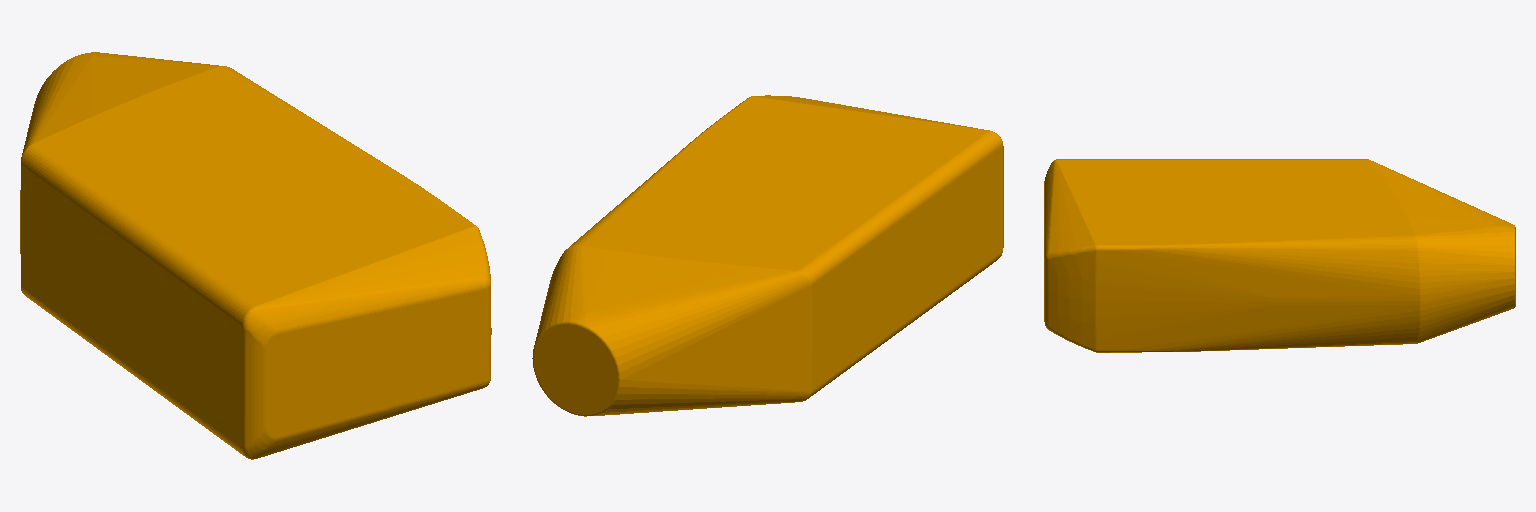
URDF robot description (bottle_complex_hull.off):
<?xml version="1.0"?>
<robot name="bottle_complex_hull.off">
	<link name="bottle_complex_hull.off">
		<inertial>
			<!--origin xyz="0 0 0" rpy="0 0 0" /-->
			<mass value="0.5" />
			<!--inertia ixx="0.000360" ixy="0" ixz="0" iyy="0.0000615" iyz="0" izz="0.00036" /-->
		</inertial>
    		<visual>
	      		<!--origin rpy="0 0 0" xyz="0 0 0"/-->
      			<geometry>
        			<mesh filename="bottle_complex_hull.off.obj"/>
      			</geometry>
         	</visual>
    		<collision>
      			<!--origin rpy="0 0 0" xyz="0 0 0"/-->
      			<geometry>
        			<mesh filename="bottle_complex_hull.off.obj"/>
      			</geometry>
    		</collision>
	</link>
</robot>

--- Facts derived from the render (not from the file) ---
3 views of the same robot in one strip: view 1: azimuth 30°, elevation 25°; view 2: azimuth 150°, elevation 25°; view 3: azimuth 270°, elevation 25° (orthographic).
Model bottle_complex_hull.off with 1 links and 0 joints (none), rooted at bottle_complex_hull.off, posed all joints at 0.
Visible links, largest first — view 1: bottle_complex_hull.off; view 2: bottle_complex_hull.off; view 3: bottle_complex_hull.off.
Boxes of the visible links, x1=… form: bottle_complex_hull.off: x1=20, y1=52, x2=491, y2=459; bottle_complex_hull.off: x1=532, y1=95, x2=1003, y2=416; bottle_complex_hull.off: x1=1044, y1=159, x2=1515, y2=352.
Bounding box of the posed robot: 92.7 × 199 × 50 m (x, y, z).
Meshes: 1 distinct files referenced, 1 mesh visuals loaded (1 OBJ).